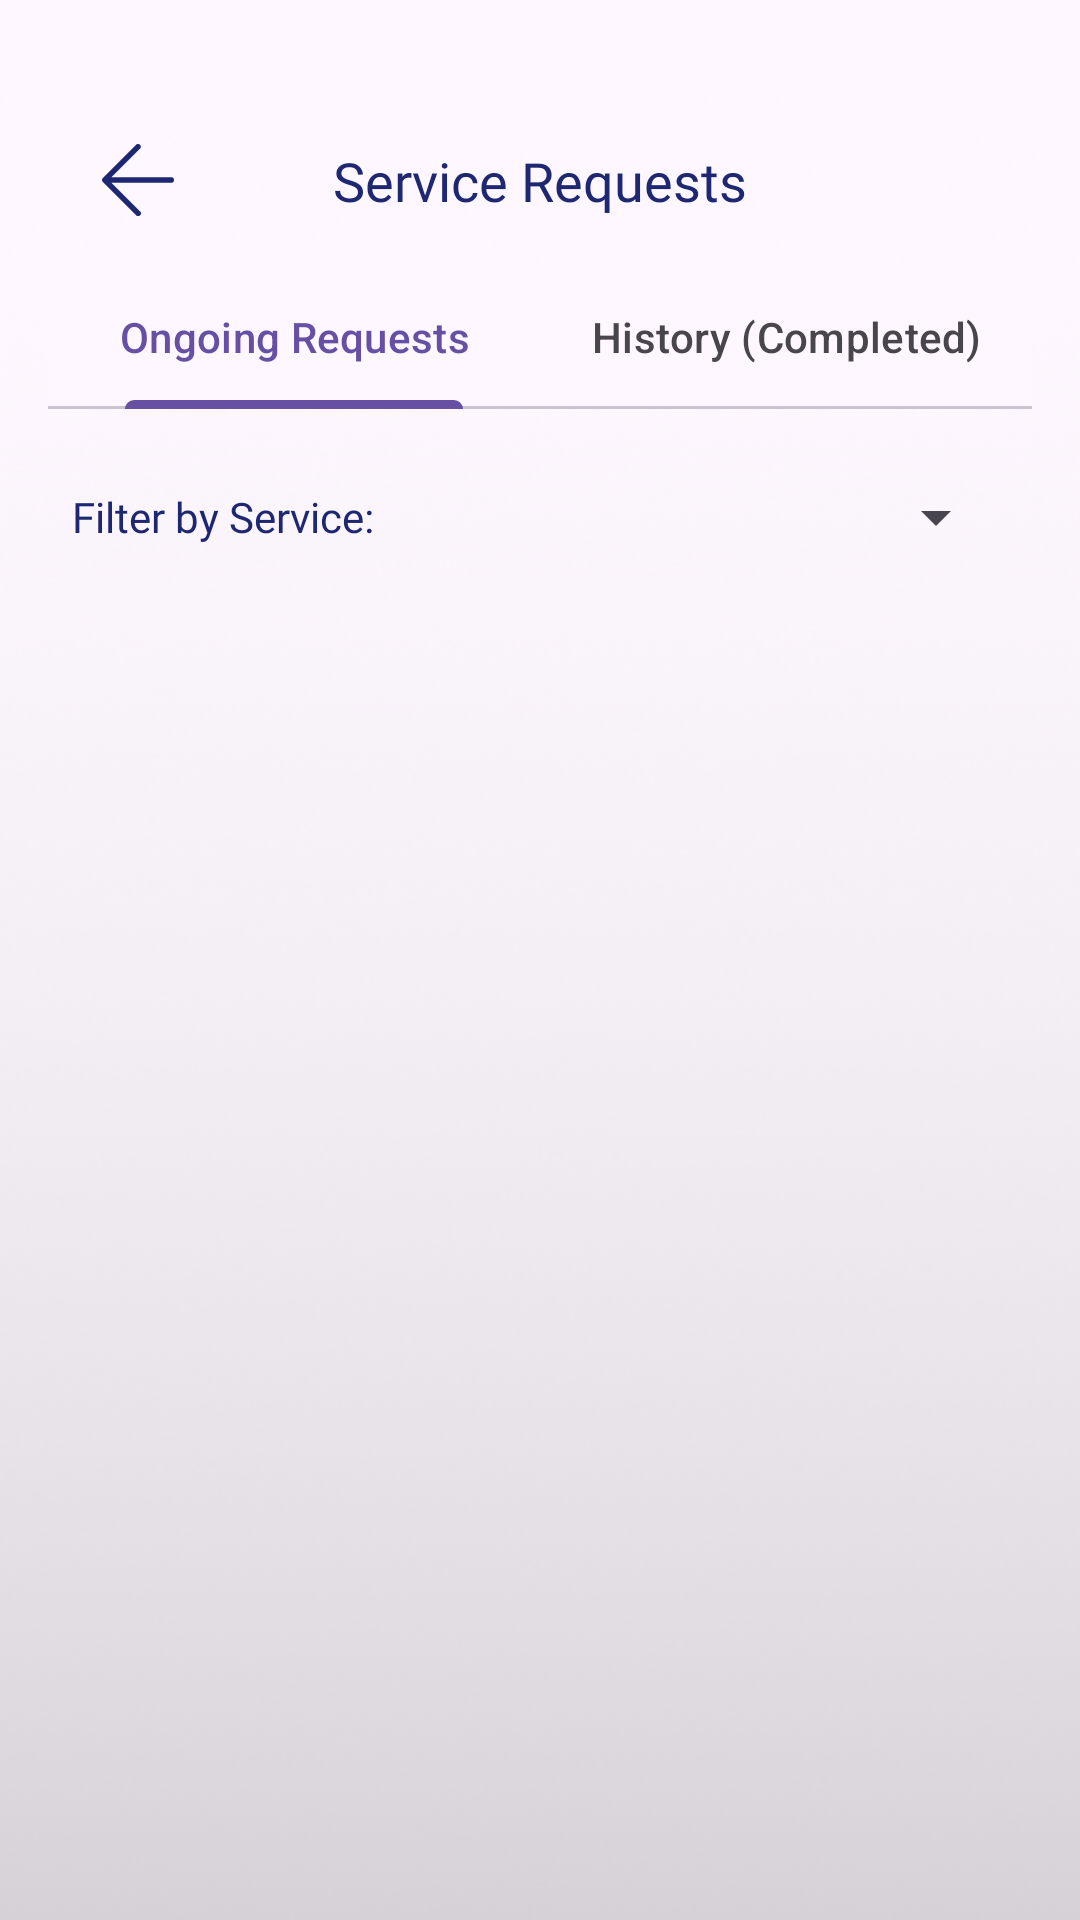

Locate icon controls on the screen. Image size 1080*1920, boxes as (x1, y1, x2, y2).
Back: (102, 144, 174, 216)
